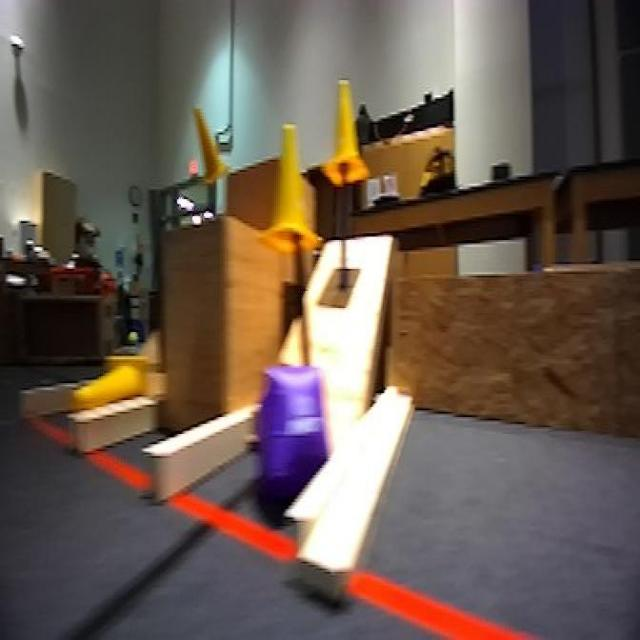frc_cone: (265, 116, 320, 252), (72, 354, 152, 417), (322, 78, 367, 188), (185, 100, 222, 186)
frc_cube: (256, 361, 334, 502)
